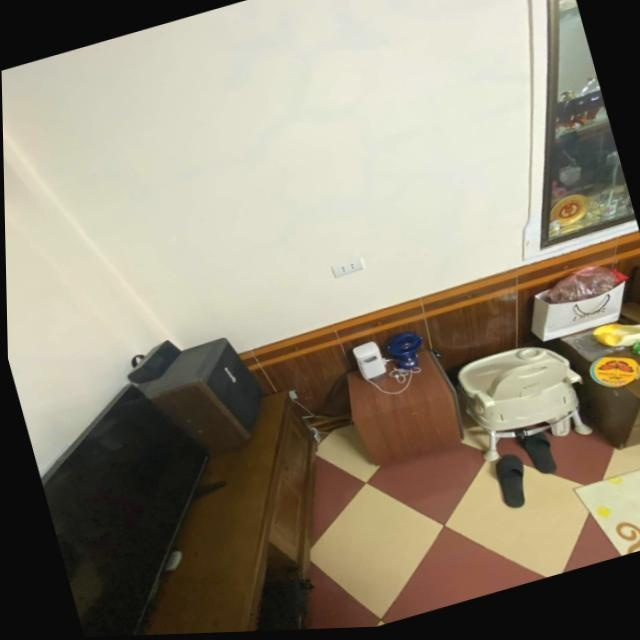outlet: (330, 256, 364, 278)
